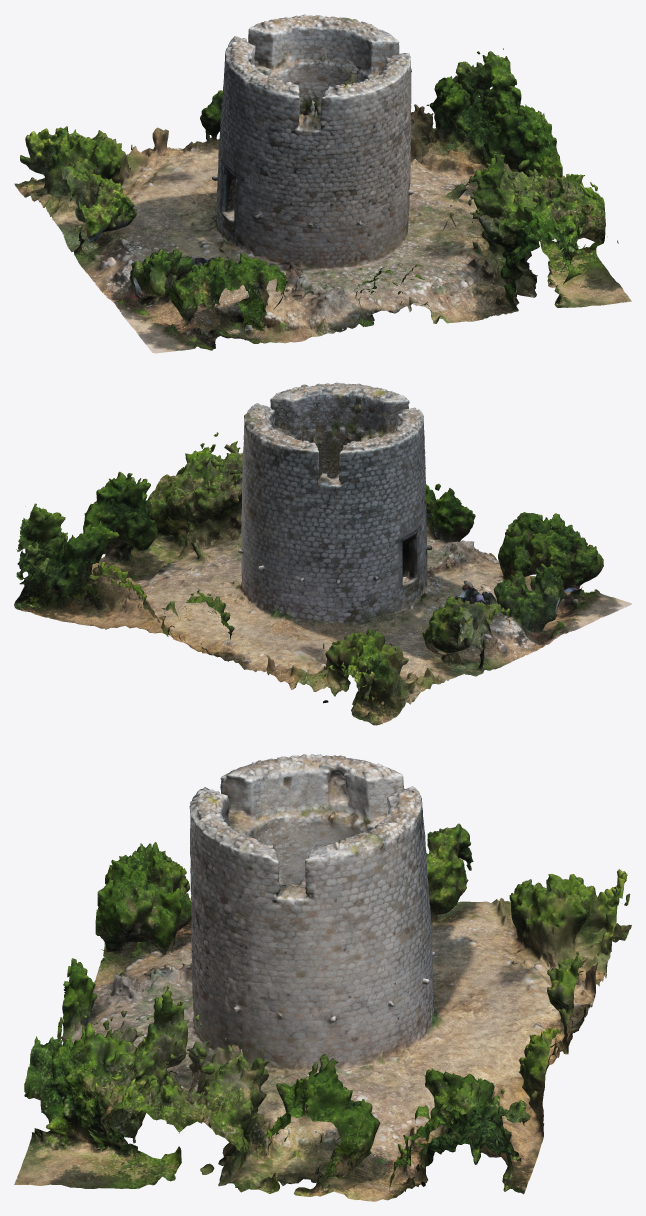
File: Mill.glb
3 views of the same model, one above another, from view 1: azimuth 30°, elevation 25°; view 2: azimuth 150°, elevation 25°; view 3: azimuth 270°, elevation 25° (orthographic). The views are drawn at different scales.
Visible parts, largest first — view 1: mesh_0; view 2: mesh_0; view 3: mesh_0.
Boxes of the visible parts, bbox=[...] form: mesh_0: bbox=[14, 14, 631, 353]; mesh_0: bbox=[14, 382, 631, 725]; mesh_0: bbox=[14, 754, 631, 1201].
Size of the model in its own units: 21.22 by 10.06 by 18.5.
Materials: 1 (1 with a texture image).
